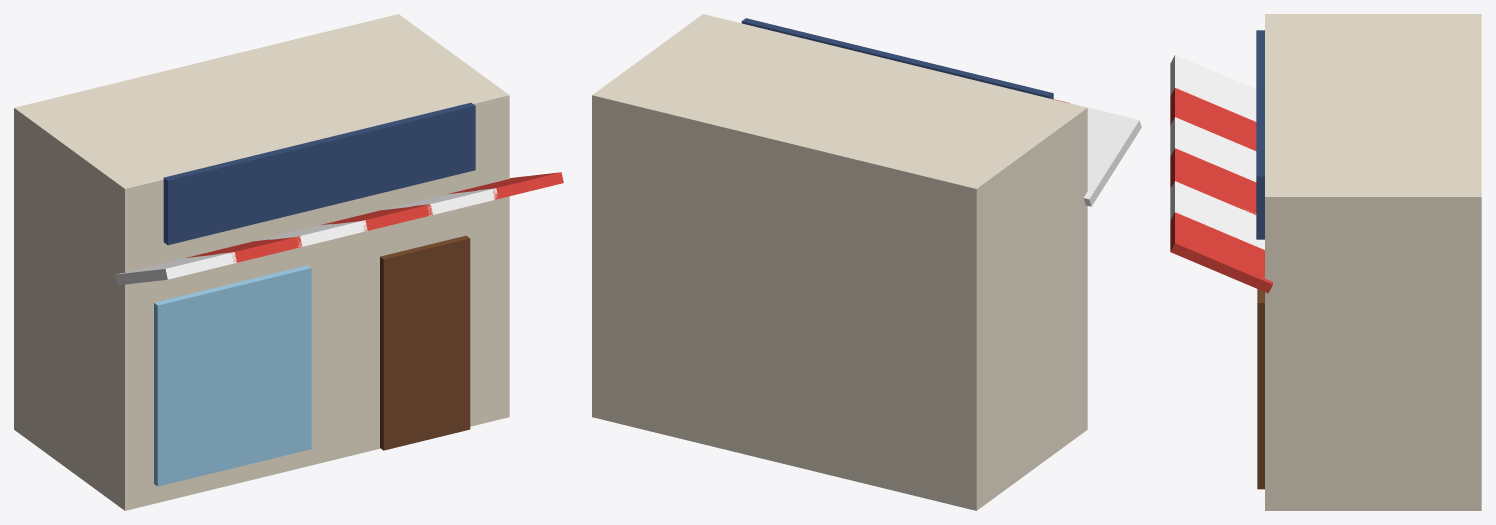
The model's file is tienda.glb.
3 renders of one model, left to right at view 1: azimuth 30°, elevation 25°; view 2: azimuth 150°, elevation 25°; view 3: azimuth 270°, elevation 25°, orthographic. The views are drawn at different scales.
Parts seen in each view (by area): view 1: Cube, Cube.001, letrero, Cube.002, Cube.003, Cube.008, Cube.007, Cube.004, Cube.005, Cube.006; view 2: Cube, Cube.003, letrero; view 3: Cube, Cube.008, Cube.003, Cube.006, Cube.007, Cube.005, Cube.004, letrero, Cube.002.
Part boxes in pixels (bbox=[...]): Cube: bbox=[14, 14, 509, 510]; Cube.001: bbox=[154, 265, 311, 486]; letrero: bbox=[163, 102, 475, 245]; Cube.002: bbox=[380, 235, 470, 450]; Cube.003: bbox=[115, 252, 236, 285]; Cube.008: bbox=[447, 172, 563, 199]; Cube.007: bbox=[381, 188, 497, 215]; Cube.004: bbox=[186, 236, 302, 262]; Cube.005: bbox=[254, 220, 367, 247]; Cube.006: bbox=[320, 204, 432, 231]; Cube: bbox=[592, 14, 1087, 510]; Cube.003: bbox=[1070, 103, 1141, 206]; letrero: bbox=[741, 18, 1053, 99]; Cube: bbox=[1265, 14, 1481, 510]; Cube.008: bbox=[1170, 211, 1272, 293]; Cube.003: bbox=[1170, 55, 1256, 121]; Cube.006: bbox=[1170, 148, 1256, 214]; Cube.007: bbox=[1170, 181, 1264, 249]; Cube.005: bbox=[1170, 117, 1256, 181]; Cube.004: bbox=[1170, 88, 1256, 150]; letrero: bbox=[1256, 30, 1264, 239]; Cube.002: bbox=[1257, 289, 1264, 489].
Size of the model in its own units: 2.06 by 1.61 by 1.44.
